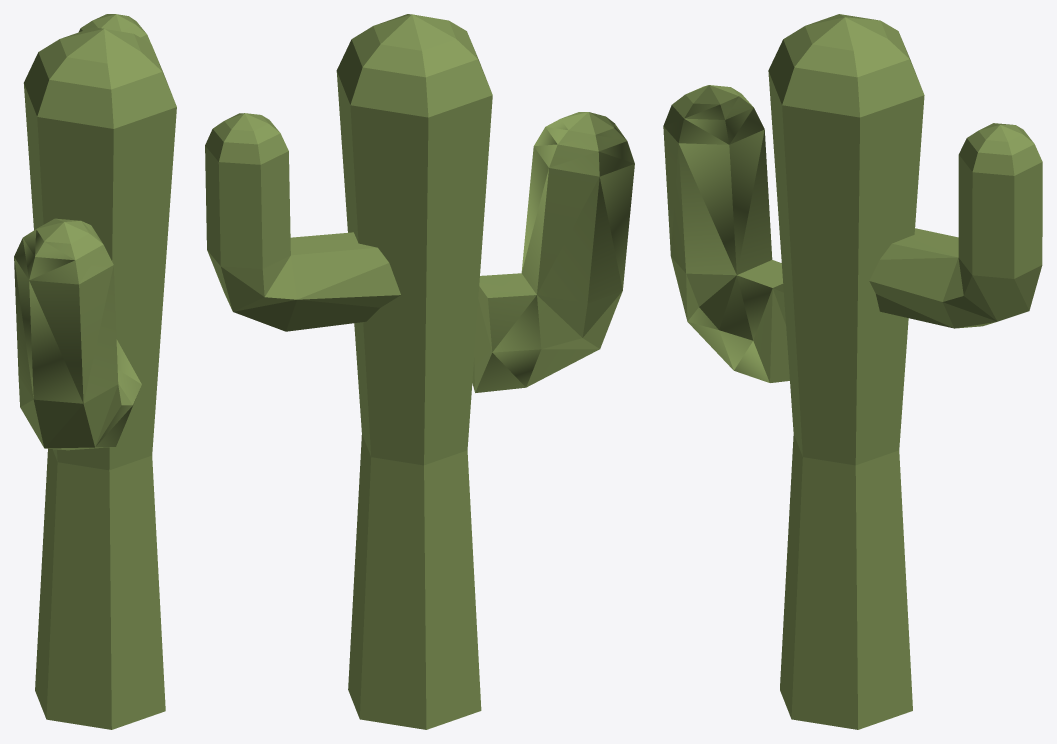
File: SL_Cactus.fbx
3 renders of one model, left to right at view 1: azimuth 30°, elevation 25°; view 2: azimuth 150°, elevation 25°; view 3: azimuth 270°, elevation 25°, orthographic.
Parts seen in each view (by area): view 1: model.001; view 2: model.001; view 3: model.001.
Part boxes in pixels (bbox=[...]): model.001: bbox=[14, 14, 176, 729]; model.001: bbox=[205, 14, 634, 729]; model.001: bbox=[663, 14, 1042, 729].
Size of the model in its own units: 277 by 666 by 334.
